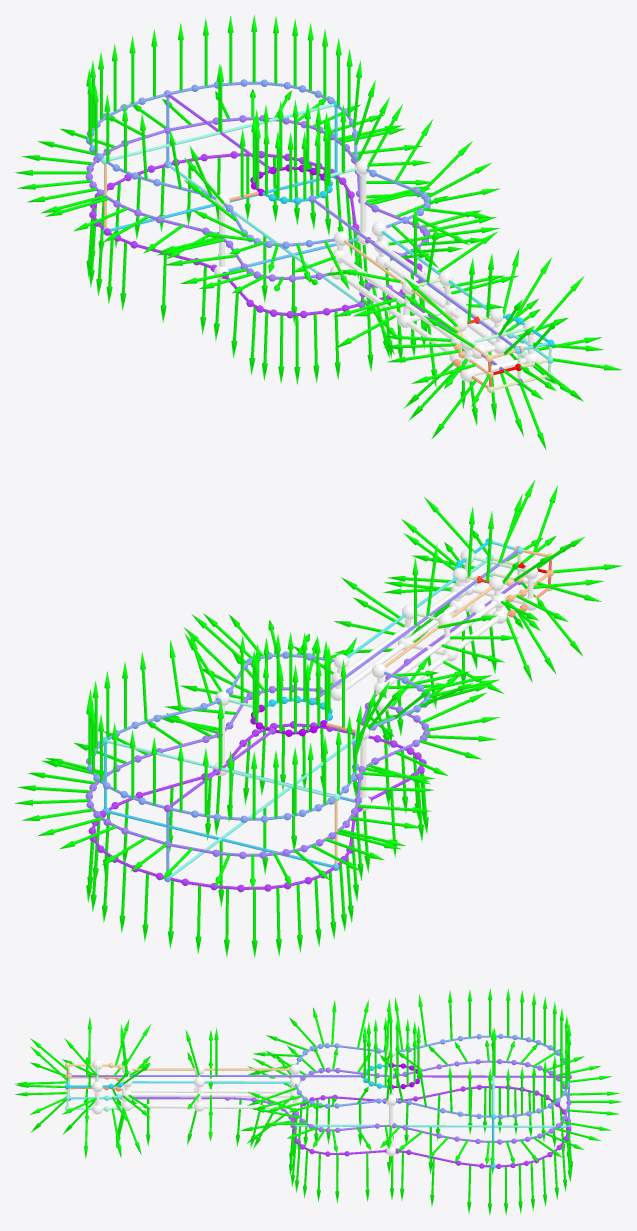
File: t2f_guitar.gltf
3 renders of one model, top to bottom at view 1: azimuth 30°, elevation 25°; view 2: azimuth 150°, elevation 25°; view 3: azimuth 270°, elevation 25°, orthographic. The views are drawn at different scales.
Size of the model in its own units: 0.5511 by 0.3037 by 1.13.
